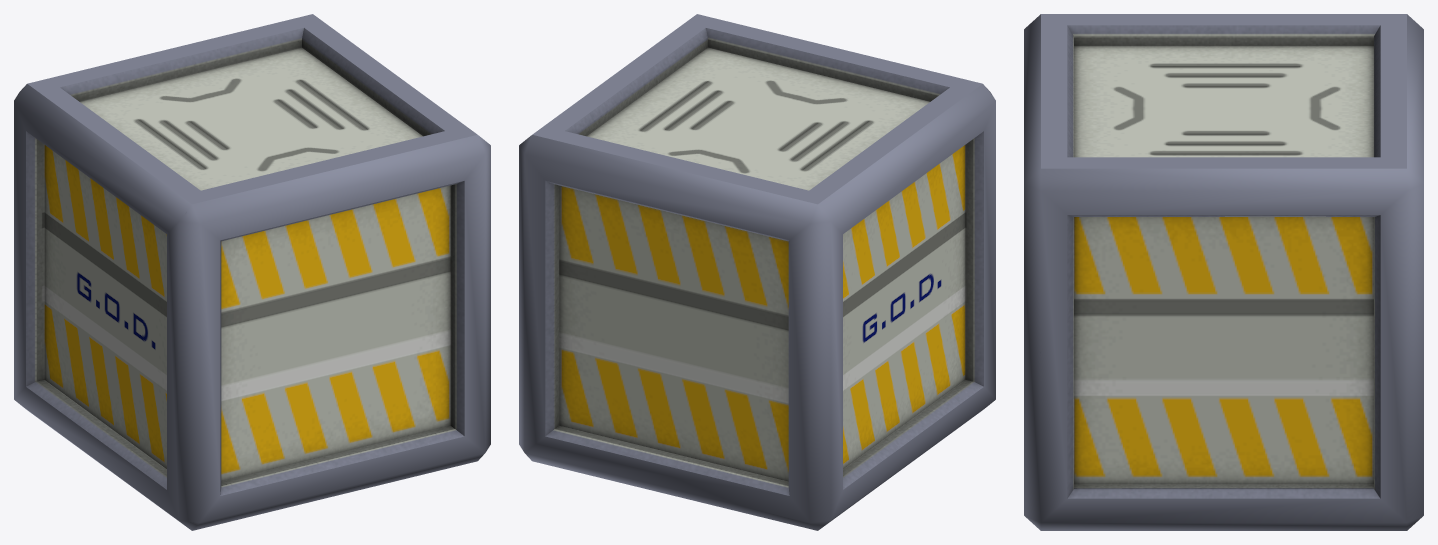
The model's file is caixote.FBX.
The picture shows the model from 3 angles, left to right: view 1: azimuth 30°, elevation 25°; view 2: azimuth 150°, elevation 25°; view 3: azimuth 270°, elevation 25°; orthographic projection. The views are drawn at different scales.
Visible parts, largest first — view 1: Caixote1; view 2: Caixote1; view 3: Caixote1.
Part boxes in pixels (left/top/right/bottom): Caixote1: left=14, top=14, right=490, bottom=530; Caixote1: left=519, top=14, right=995, bottom=530; Caixote1: left=1024, top=14, right=1423, bottom=530.
Size of the model in its own units: 86.03 by 86.03 by 86.03.
Materials: 1 (1 with a texture image).
